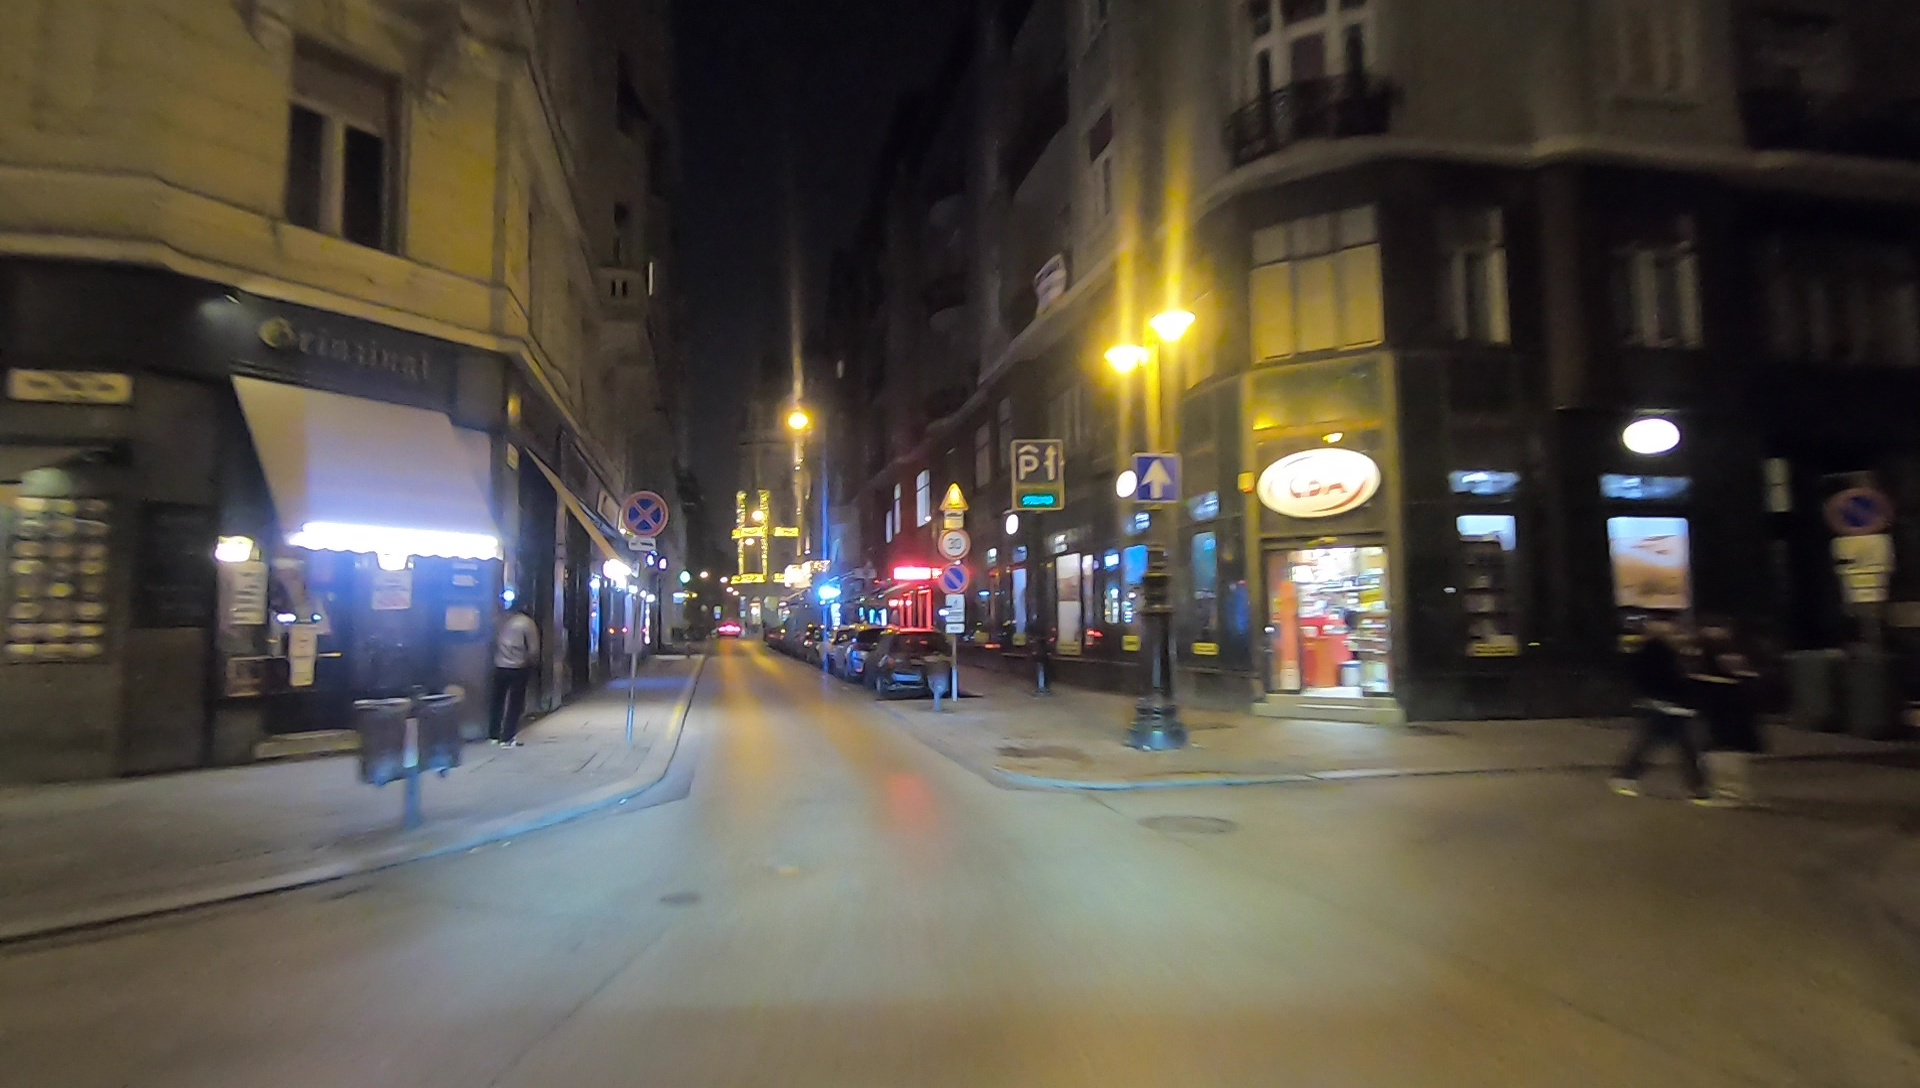person: (1619, 610, 1704, 808), (1689, 604, 1764, 811), (489, 595, 536, 752)
